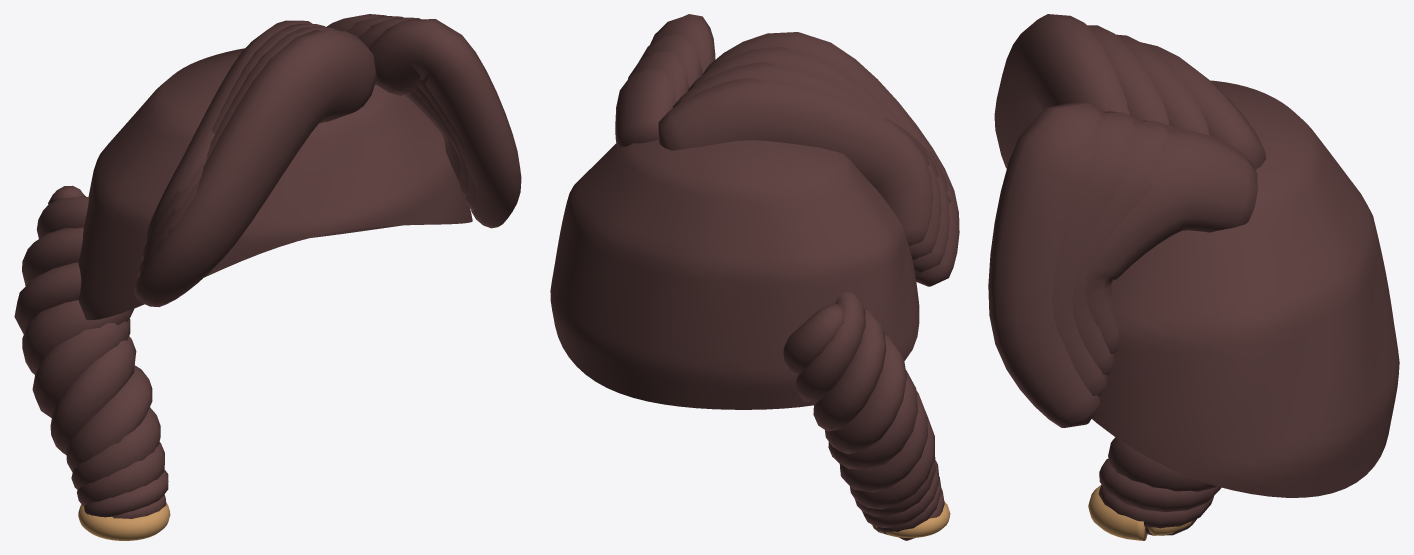
File: studio_single_braid_short.glb
3 renders of one model, left to right at view 1: azimuth 30°, elevation 25°; view 2: azimuth 150°, elevation 25°; view 3: azimuth 270°, elevation 25°, orthographic. The views are drawn at different scales.
Parts seen in each view (by area): view 1: single_braid; view 2: single_braid; view 3: single_braid.
Part boxes in pixels (x1,y1,x2,y2): single_braid: (14,14,521,540); single_braid: (550,14,959,540); single_braid: (988,14,1399,540).
Bounding box in the file's own units: 0.5368 × 0.6037 × 0.3764.
